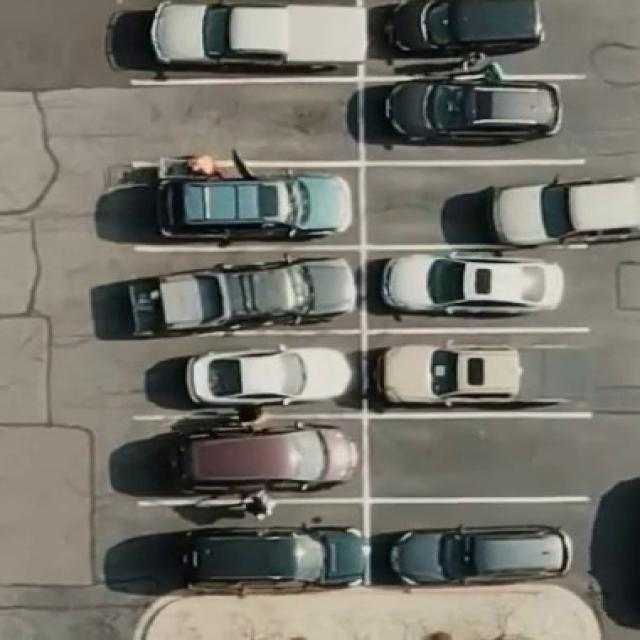empty: (375, 424, 582, 493), (136, 90, 349, 154)
notEmpty: (140, 512, 360, 591), (372, 509, 587, 584), (138, 0, 354, 74), (370, 85, 582, 159), (370, 170, 590, 240), (138, 424, 358, 494), (374, 0, 580, 74), (378, 337, 588, 409), (137, 340, 355, 409), (140, 258, 358, 326), (376, 256, 582, 327), (144, 172, 354, 240)
